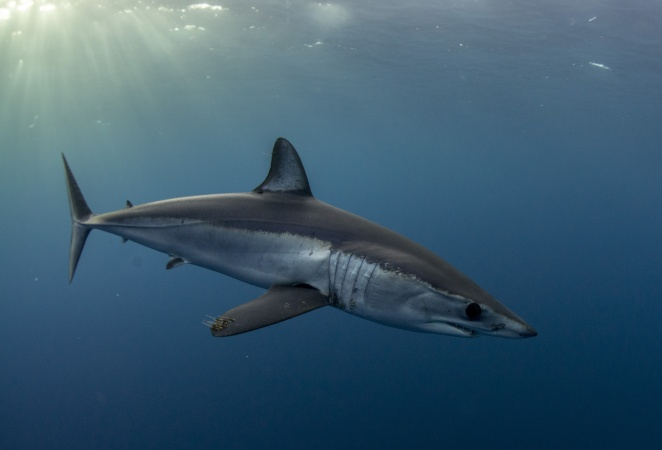Mako: (37, 136, 541, 354)
